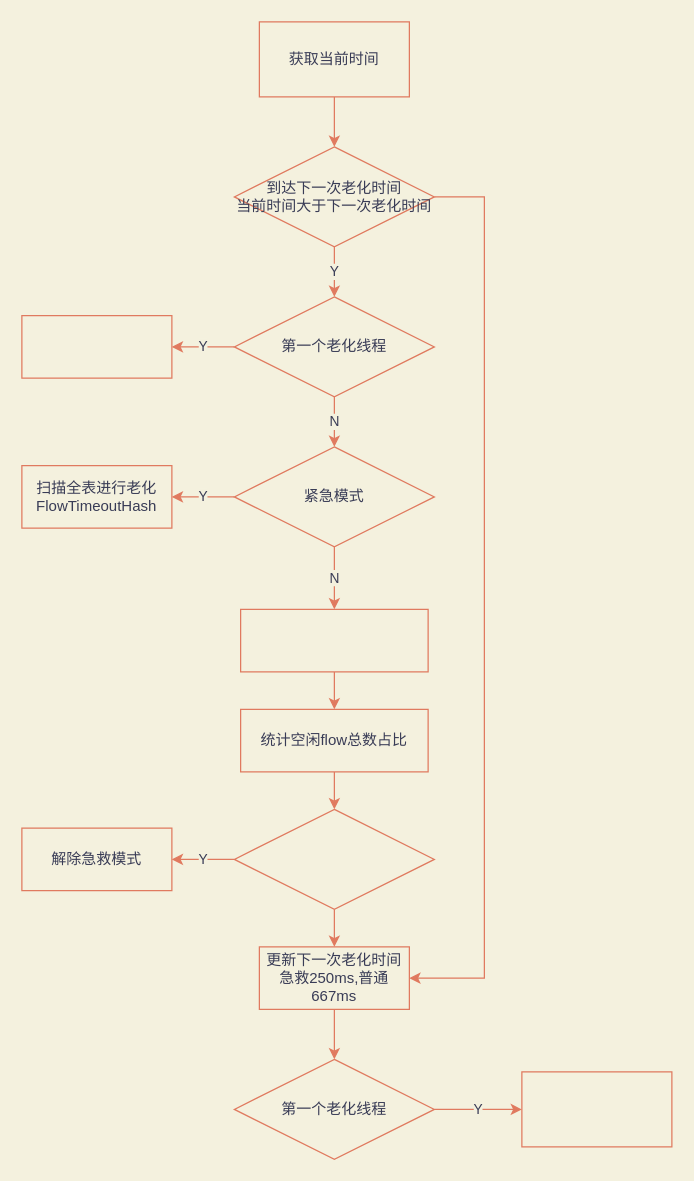
The diagram is 694 pixels wide and 1181 high, and some of its shapes have lost their labels. The shapes that lost their labels are listed below. From the top down, each one's centre as x and y in pixels, then its label:
At (x=96, y=346): "维护空闲flow数量 FlowSparePoolUpdate".
At (x=333, y=640): "扫描部分进行老化 FlowTimeoutHashInChunks".
At (x=333, y=858): "空闲flow占比 连续30次大于 急救模式百分比".
At (x=596, y=1109): "执行额外老化任务 DefragTimeoutHash IPPairTimeoutHash".
